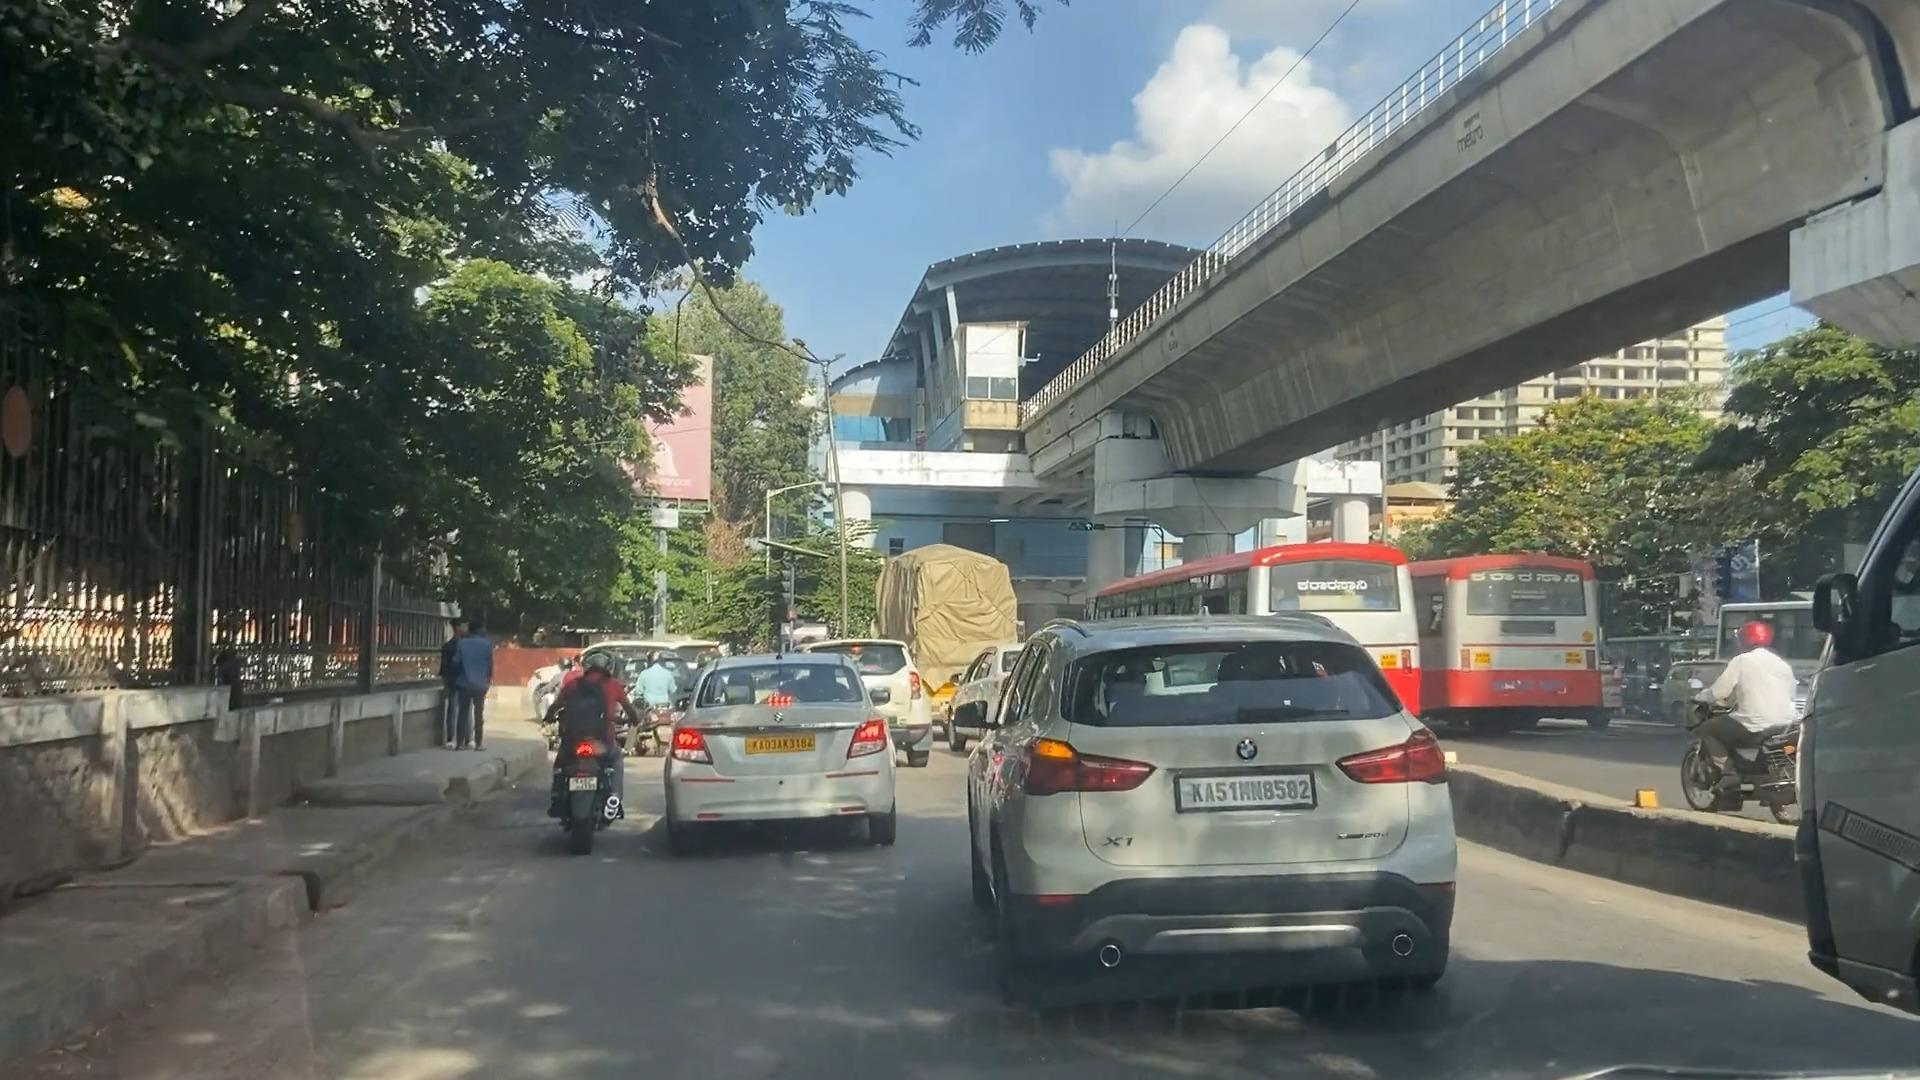HMV: (1394, 498, 1621, 745)
